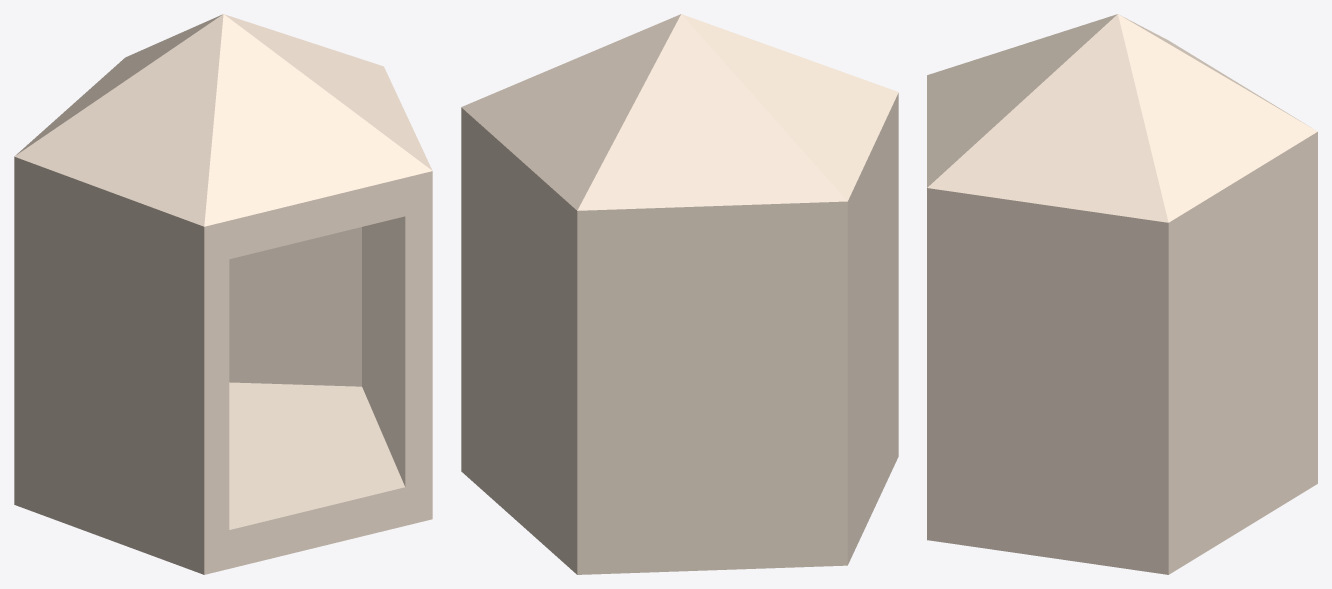
Rendered from hut.fbx.
3 renders of one model, left to right at view 1: azimuth 30°, elevation 25°; view 2: azimuth 150°, elevation 25°; view 3: azimuth 270°, elevation 25°, orthographic. The views are drawn at different scales.
Parts seen in each view (by area): view 1: Cylinder.003, Cylinder.001, Cylinder.007, Cylinder.010, Cylinder.004, Cylinder.002, Cylinder.006, Cylinder.008, Cylinder; view 2: Cylinder.005, Cylinder.004, Cylinder, Cylinder.003, Cylinder.009, Cylinder.010; view 3: Cylinder.002, Cylinder.004, Cylinder.008, Cylinder.009, Cylinder.007.
Boxes of the visible parts, x1,y1,x2,y2 form: Cylinder.003: (14, 156, 229, 574); Cylinder.001: (204, 382, 432, 574); Cylinder.007: (204, 14, 431, 226); Cylinder.010: (14, 14, 223, 226); Cylinder.004: (229, 227, 361, 386); Cylinder.002: (362, 209, 432, 486); Cylinder.006: (204, 171, 432, 265); Cylinder.008: (224, 14, 432, 170); Cylinder: (15, 14, 222, 155); Cylinder.005: (577, 201, 847, 574); Cylinder.004: (461, 107, 577, 574); Cylinder: (577, 14, 847, 210); Cylinder.003: (847, 93, 898, 565); Cylinder.009: (461, 14, 680, 210); Cylinder.010: (681, 14, 898, 201); Cylinder.002: (927, 188, 1168, 574); Cylinder.004: (1168, 132, 1317, 574); Cylinder.008: (927, 14, 1168, 222); Cylinder.009: (1118, 14, 1317, 222); Cylinder.007: (927, 14, 1117, 187).
Bounding box in the file's own units: 998 × 1198 × 904.
